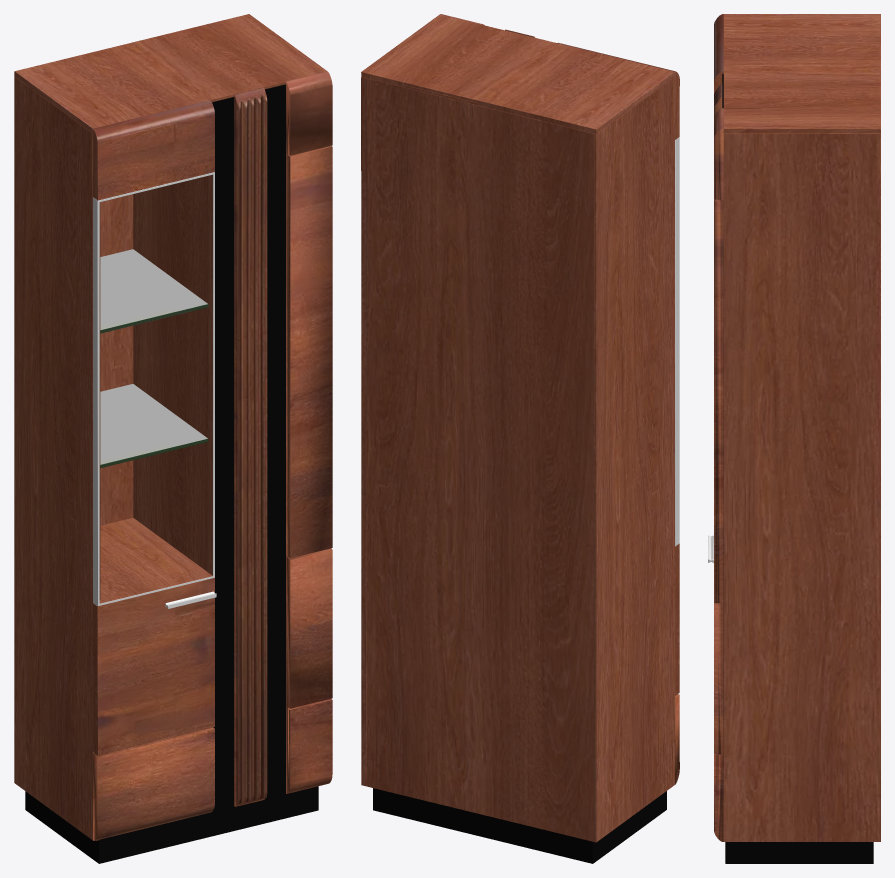
File: B07JG3ZVVZ.glb
3 views of the same model, side by side, from view 1: azimuth 30°, elevation 25°; view 2: azimuth 150°, elevation 25°; view 3: azimuth 270°, elevation 25° (orthographic).
Visible parts, largest first — view 1: RootNode; view 2: RootNode; view 3: RootNode.
Part boxes in pixels (<box>): RootNode: <box>14,14,332,863</box>; RootNode: <box>361,14,679,863</box>; RootNode: <box>708,14,880,863</box>.
Bounding box in the file's own units: 0.6599 × 1.98 × 0.4198.
1 material, 1 textured.
